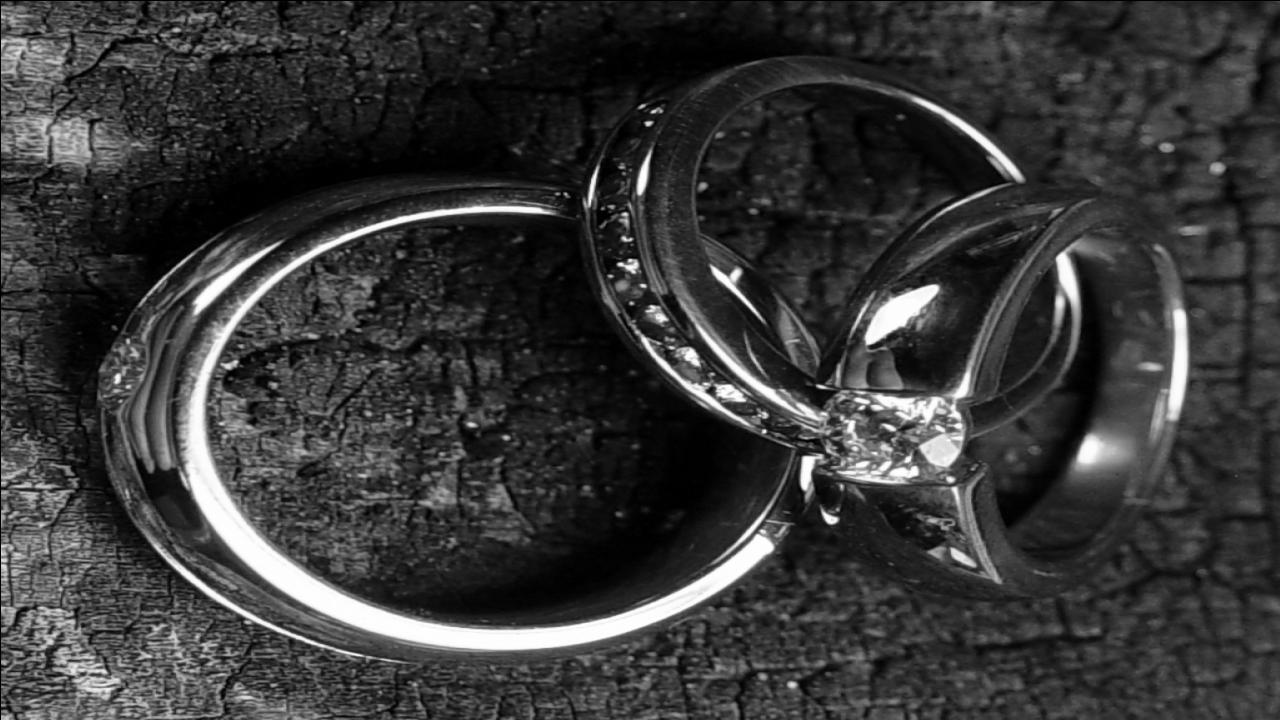ring: (92, 169, 818, 668), (582, 47, 1074, 452), (819, 180, 1205, 606)
